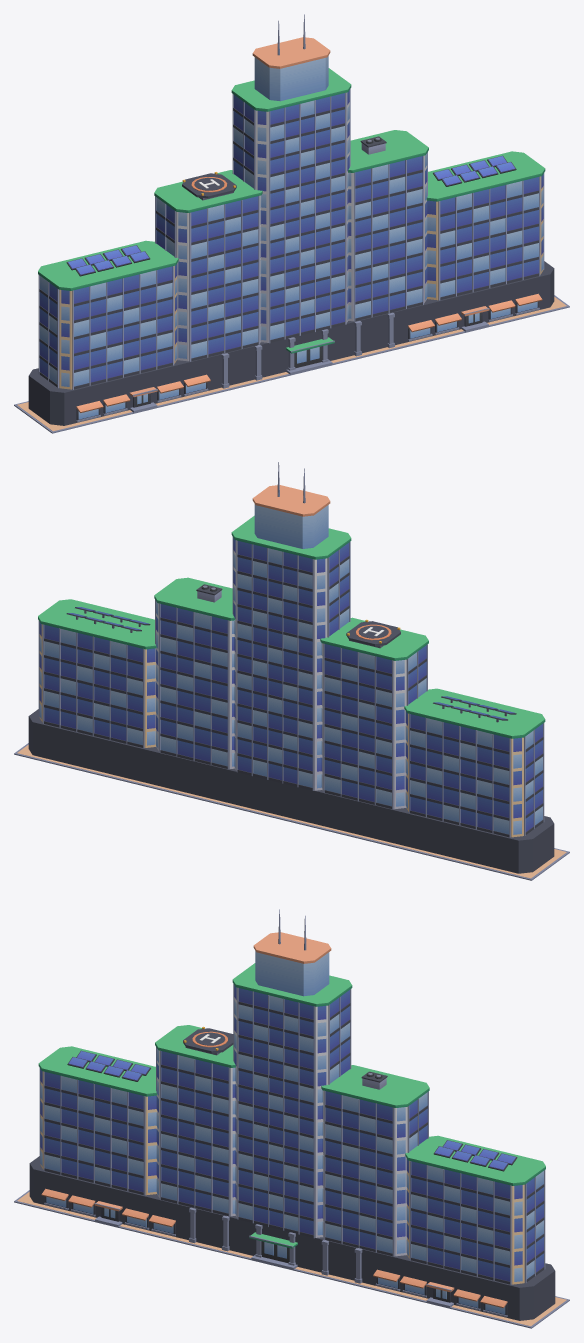
File: off_world_plaza_7x1.glb
The picture shows the model from 3 angles, top to bottom: view 1: azimuth 30°, elevation 25°; view 2: azimuth 150°, elevation 25°; view 3: azimuth 330°, elevation 25°; orthographic projection.
Parts seen in each view (by area): view 1: off_world_plaza_7x1; view 2: off_world_plaza_7x1; view 3: off_world_plaza_7x1.
Part boxes in pixels (x1,y1,x2,y2): off_world_plaza_7x1: [14, 14, 569, 433]; off_world_plaza_7x1: [14, 462, 569, 880]; off_world_plaza_7x1: [14, 909, 569, 1328].
Size of the model in its own units: 13.22 by 8.26 by 1.78.
1 material, 1 textured.
